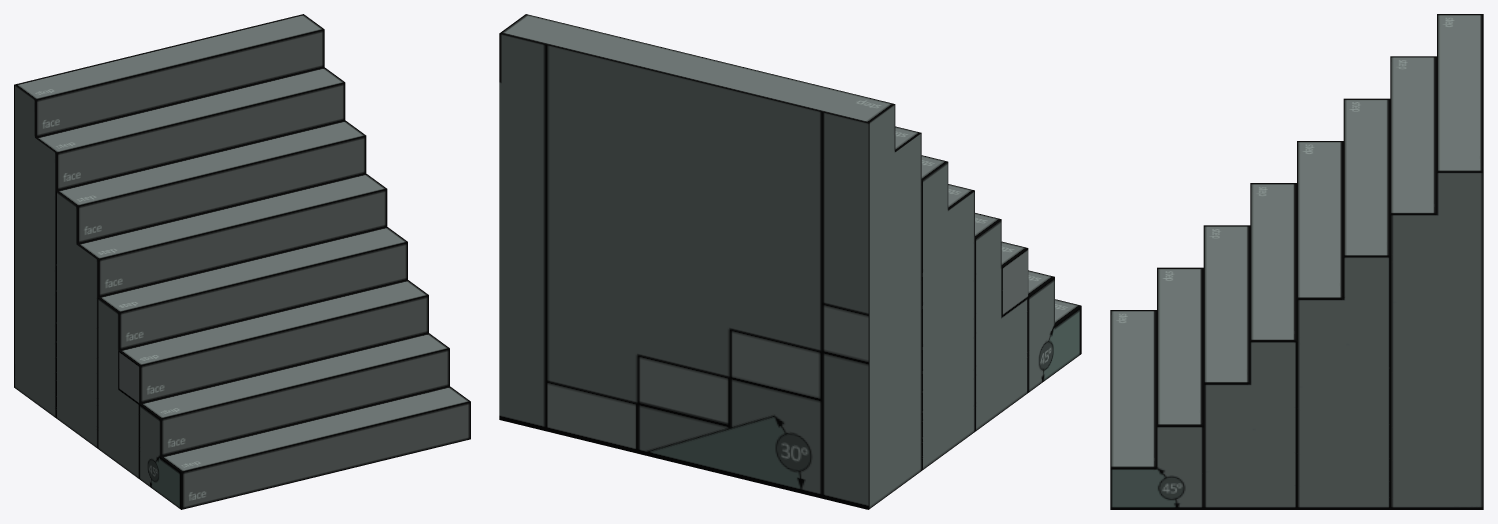
Rendered from Stairs_45_04.fbx.
3 renders of one model, left to right at view 1: azimuth 30°, elevation 25°; view 2: azimuth 150°, elevation 25°; view 3: azimuth 270°, elevation 25°, orthographic. The views are drawn at different scales.
Visible parts, largest first — view 1: Stairs_45_04; view 2: Stairs_45_04; view 3: Stairs_45_04.
Part boxes in pixels (x1,y1,x2,y2): Stairs_45_04: (14,14,470,509); Stairs_45_04: (499,14,1081,509); Stairs_45_04: (1110,14,1483,509).
Bounding box in the file's own units: 4 × 4 × 4.
